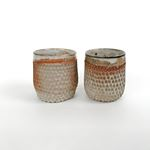cups: (29, 46, 78, 104), (82, 43, 128, 104)
